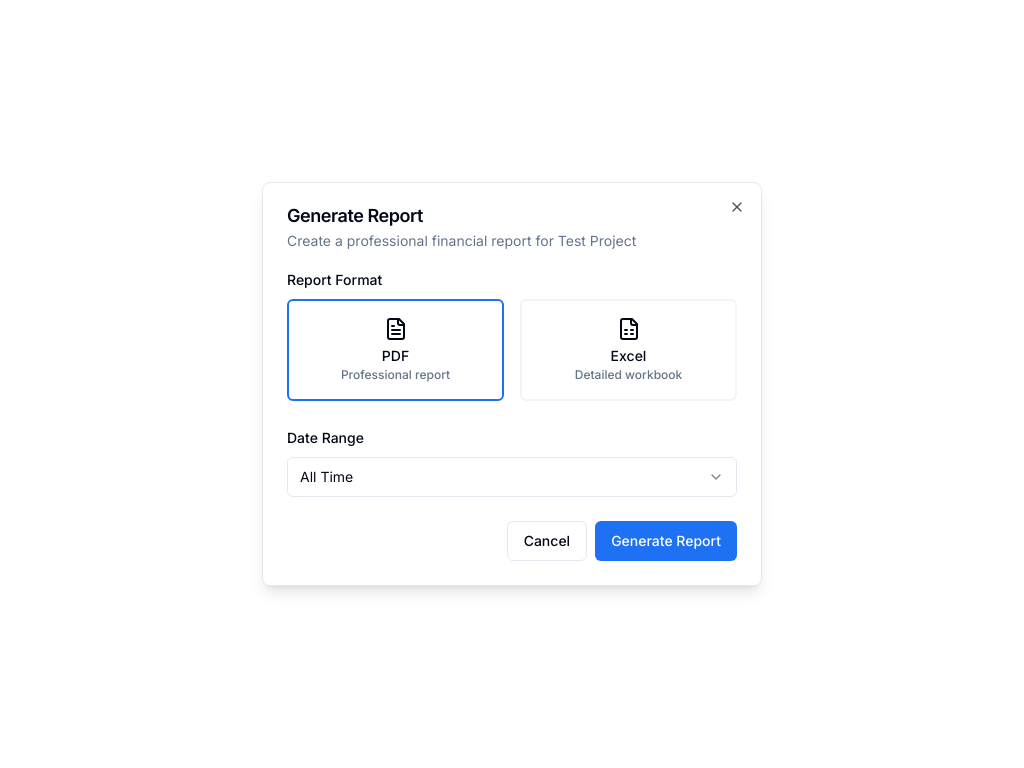
Scenario: ReportOptionsModal › displays download button after successful generation
Click the button "Generate Report". click: x=666, y=541
box: [595,521,737,561]
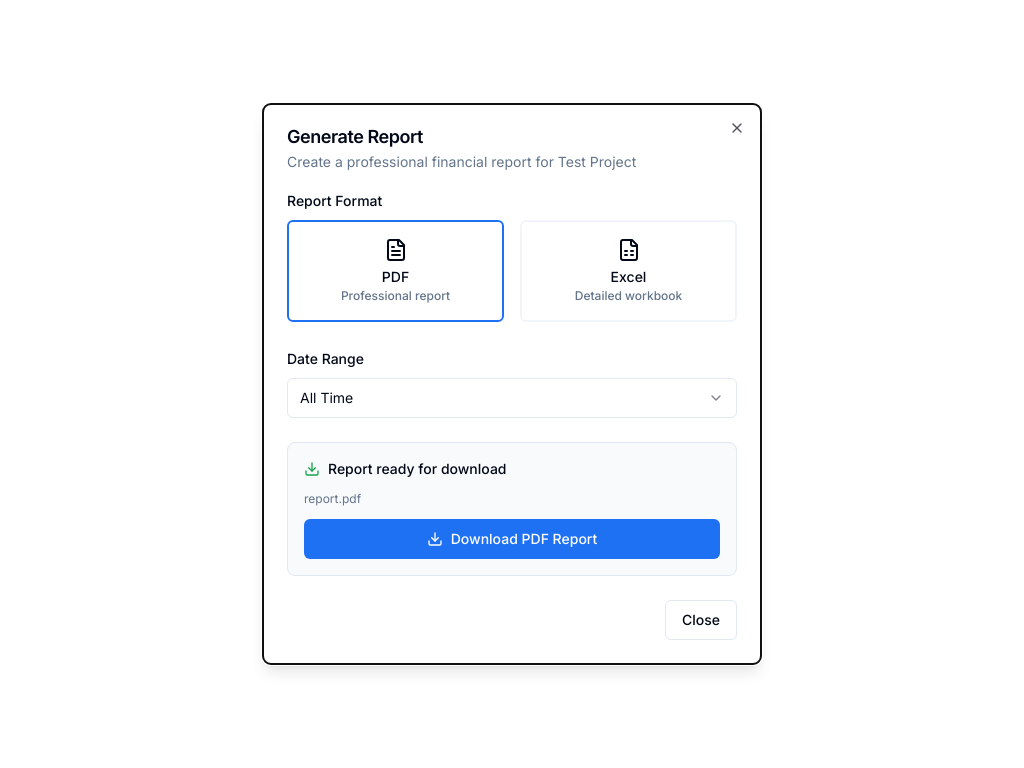
Expected: the text "Report ready for download" is shown, [328,459,506,479]
Expected: the text "report.pdf" is shown, [304,491,361,506]
Expected: the button "Download PDF Report" is shown, [304,519,720,559]
